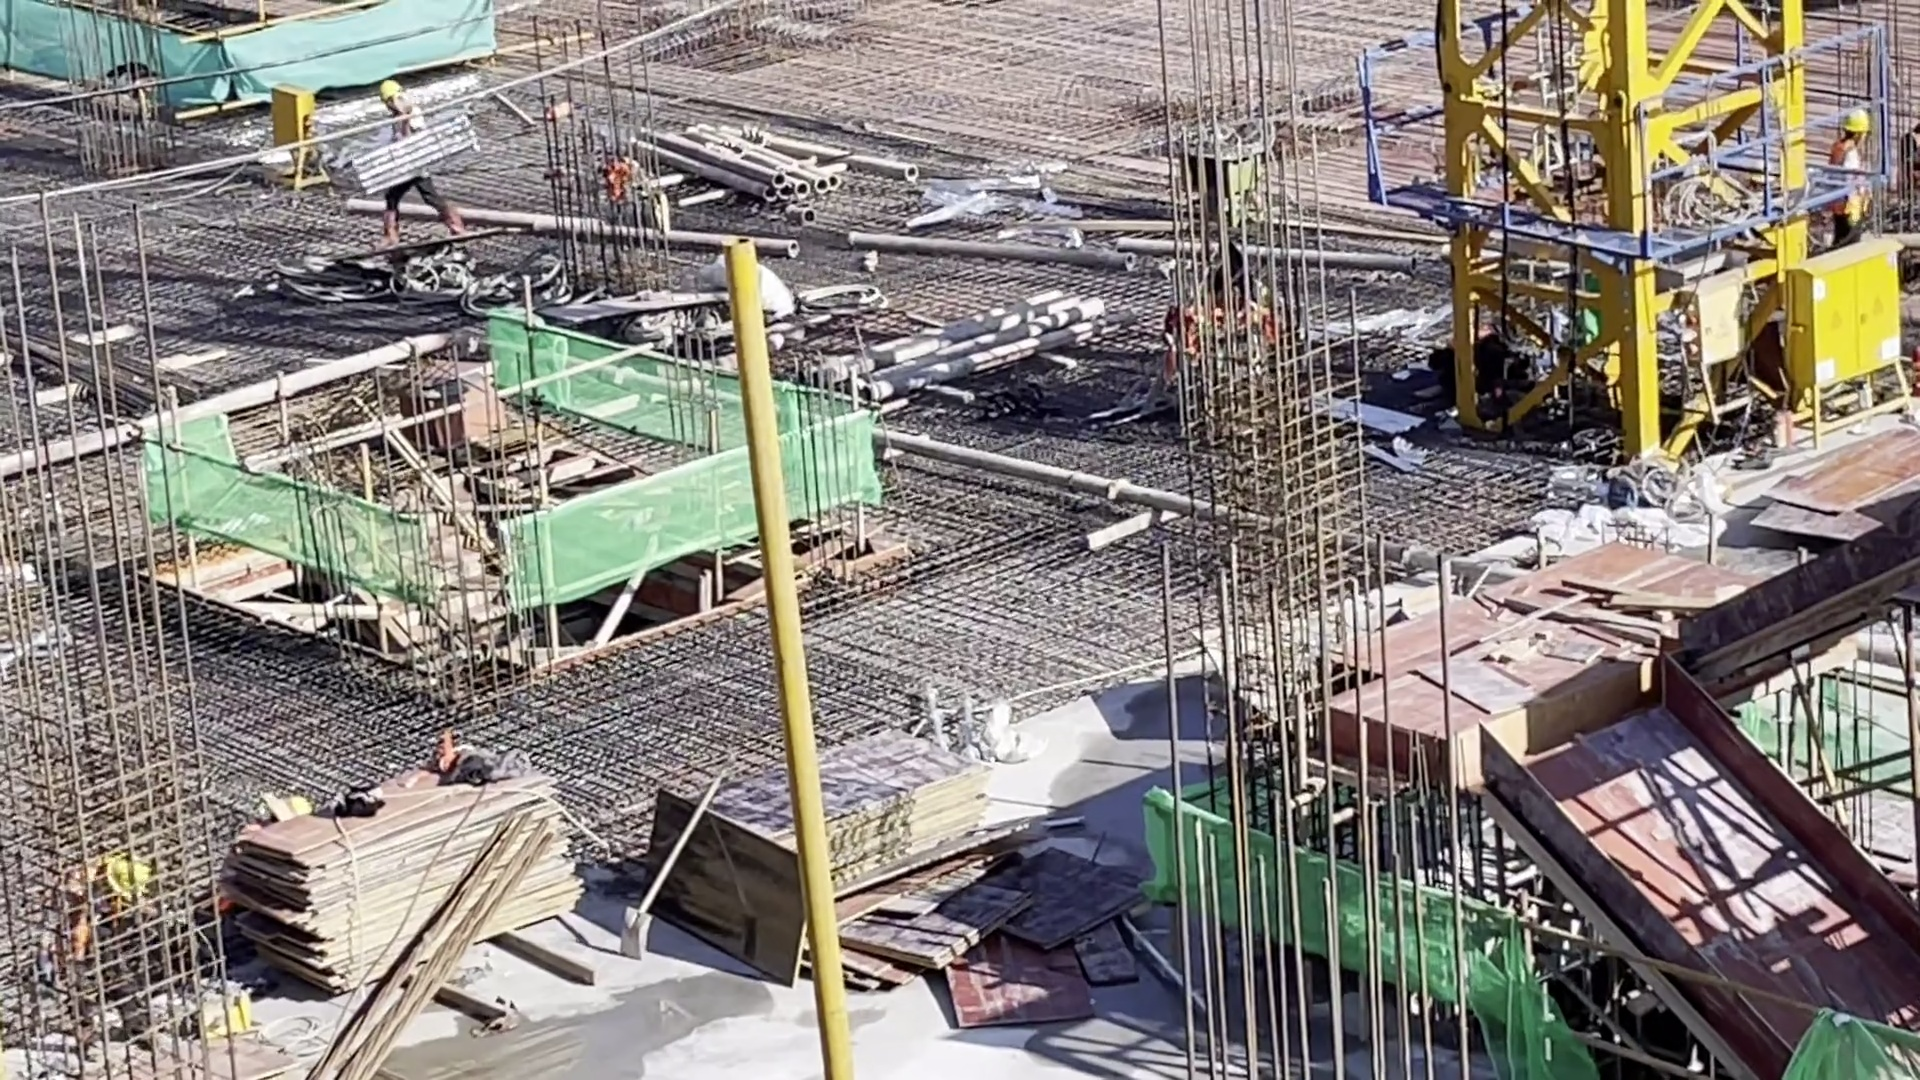board: (667, 718, 1020, 984), (247, 794, 604, 991)
ebox: (1795, 214, 1920, 370)
helmet: (106, 858, 151, 899), (1840, 108, 1876, 136), (374, 77, 405, 107)
person: (56, 846, 166, 1080), (365, 72, 475, 252), (1836, 101, 1885, 238)
scaffold: (645, 101, 921, 229)
